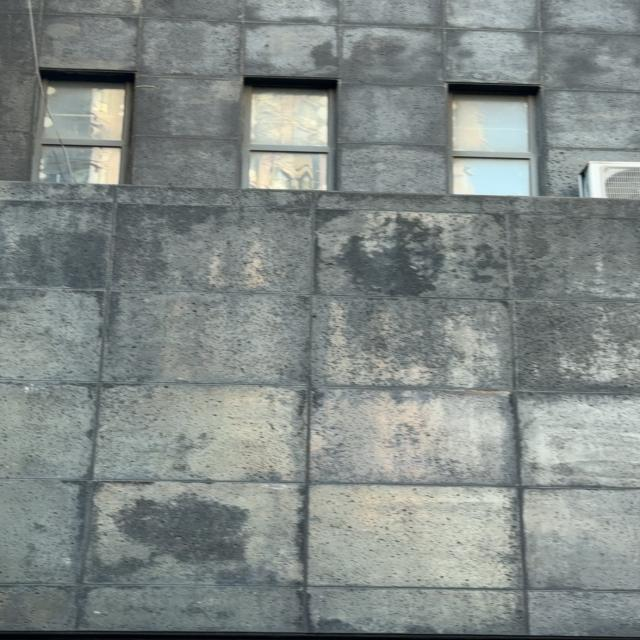mildew: (2, 2, 635, 634)
